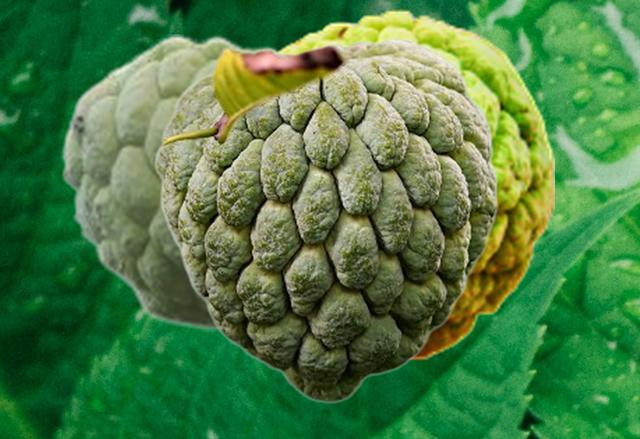atis: (153, 36, 497, 402), (272, 8, 553, 365), (60, 34, 280, 330)
